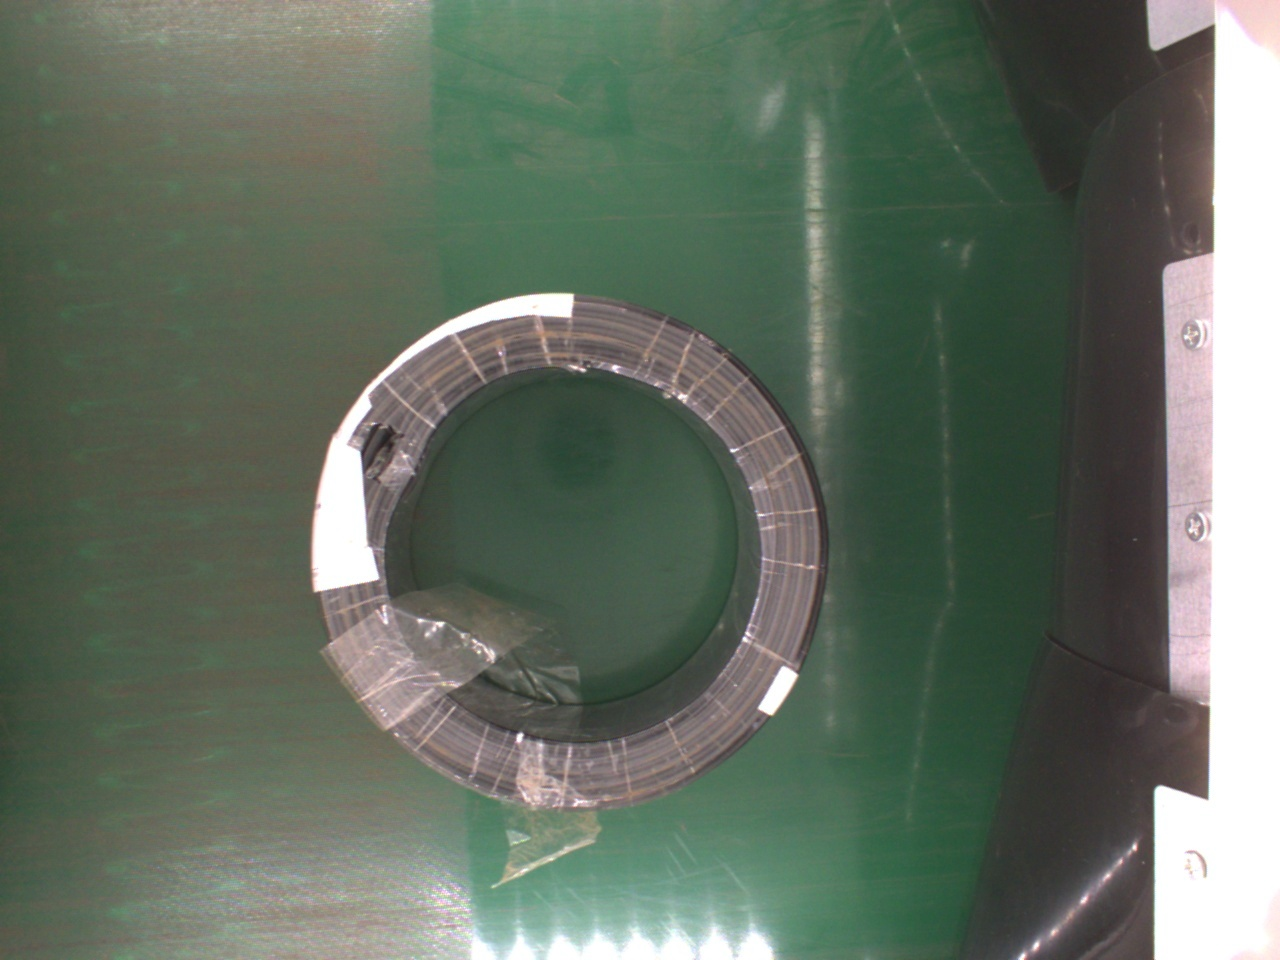black: (304, 293, 828, 817)
